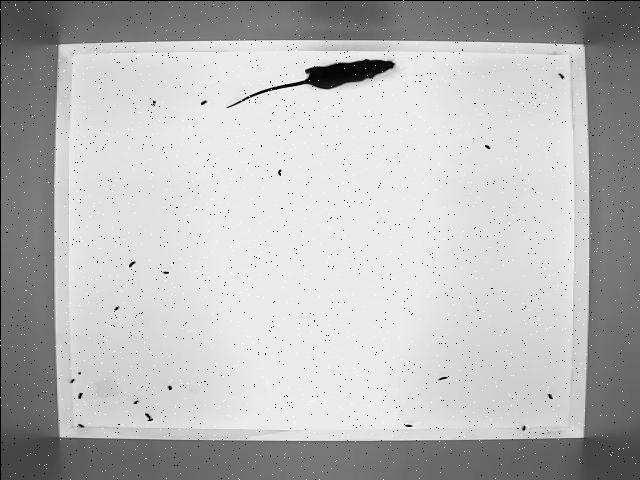Tikus: (219, 54, 399, 114)
